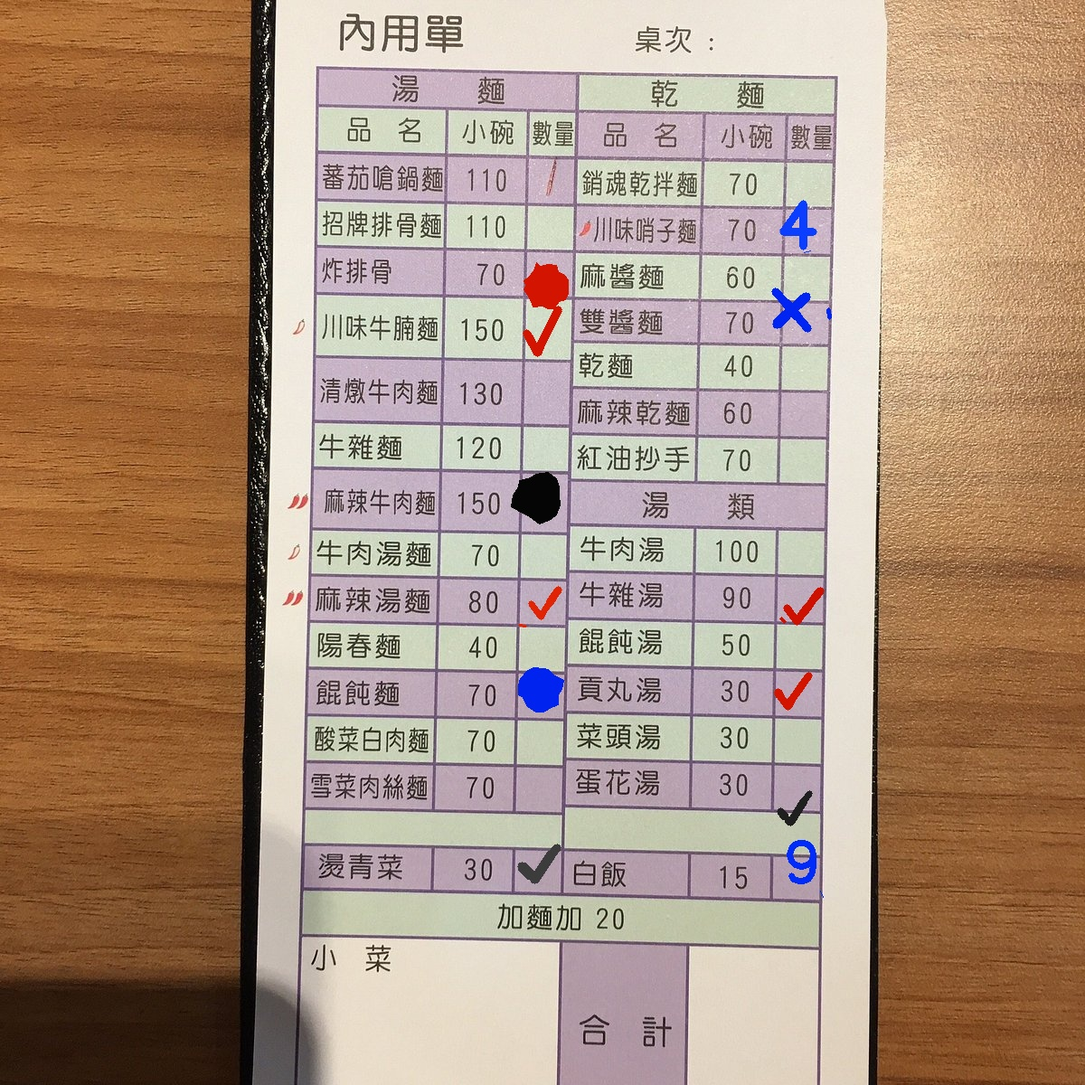marked_circle: (519, 470, 565, 533), (517, 670, 565, 716), (525, 251, 573, 297)
marked_number_4: (782, 206, 830, 252)
marked_number_9: (772, 854, 820, 901)
marked_tick: (524, 297, 570, 359), (775, 575, 823, 621), (772, 670, 820, 716), (517, 580, 565, 626), (772, 765, 820, 811), (514, 846, 561, 892)
marked_x: (780, 298, 828, 344)
